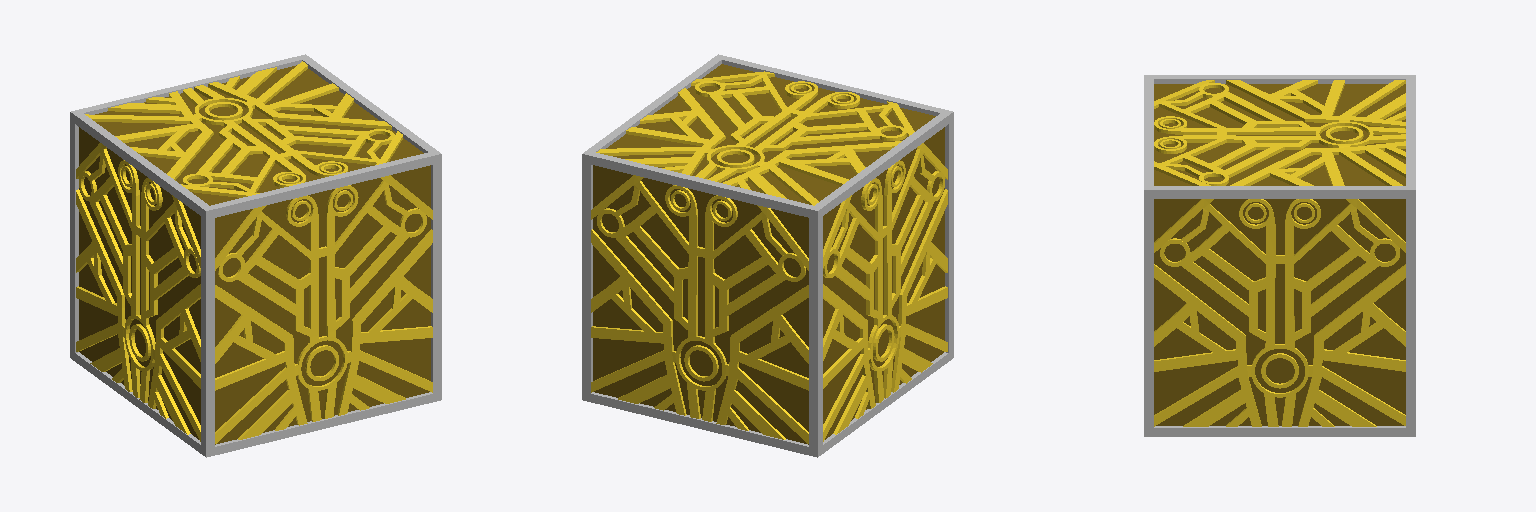
File: medkit2.obj
3 renders of one model, left to right at view 1: azimuth 30°, elevation 25°; view 2: azimuth 150°, elevation 25°; view 3: azimuth 270°, elevation 25°, orthographic.
Visible parts, largest first — view 1: Cube.018_Cube.015, Plane.008_Plane.028, Cube_Cube.001, Plane.007_Plane.026, Plane.004_Plane.021; view 2: Cube.018_Cube.015, Plane.024, Cube_Cube.001, Plane.007_Plane.026, Plane.004_Plane.021; view 3: Cube.018_Cube.015, Plane.006_Plane.025, Plane.004_Plane.021, Cube_Cube.001.
Part boxes in pixels (x1,y1,x2,y2): Cube.018_Cube.015: (79, 65, 430, 444); Plane.008_Plane.028: (215, 175, 432, 443); Cube_Cube.001: (70, 54, 441, 457); Plane.007_Plane.026: (76, 143, 200, 441); Plane.004_Plane.021: (85, 61, 402, 197); Cube.018_Cube.015: (593, 64, 944, 444); Plane.024: (591, 175, 808, 443); Cube_Cube.001: (582, 54, 953, 457); Plane.007_Plane.026: (823, 143, 947, 441); Plane.004_Plane.021: (596, 71, 914, 205); Cube.018_Cube.015: (1154, 84, 1405, 425); Plane.006_Plane.025: (1154, 199, 1405, 426); Plane.004_Plane.021: (1154, 80, 1405, 185); Cube_Cube.001: (1144, 75, 1415, 436).
Bounding box in the file's own units: 0.6668 × 0.6668 × 0.6668.